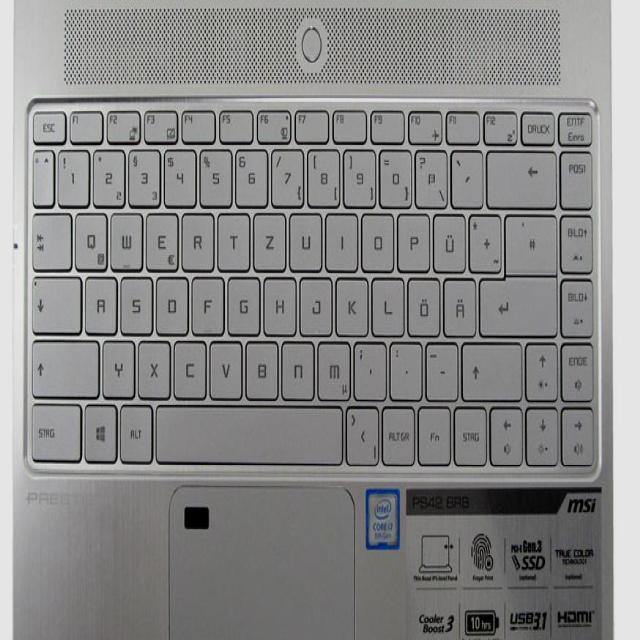0: (376, 144, 410, 205)
1: (55, 144, 89, 204)
2: (91, 145, 124, 205)
3: (125, 144, 159, 204)
4: (161, 144, 195, 204)
5: (197, 144, 231, 204)
6: (232, 144, 267, 205)
7: (268, 142, 302, 205)
8: (304, 144, 338, 205)
9: (340, 144, 375, 205)
a: (82, 269, 116, 332)
accent: (448, 144, 481, 204)
ae: (441, 272, 474, 334)
alt-left: (117, 398, 152, 461)
altgr-right: (381, 401, 415, 464)
b: (243, 334, 278, 397)
c: (171, 334, 206, 397)
caret: (31, 145, 53, 205)
comma: (351, 336, 385, 397)
d: (153, 270, 188, 333)
del: (485, 144, 556, 205)
e: (144, 206, 177, 269)
enter: (476, 270, 556, 333)
f: (189, 270, 223, 333)
g: (224, 270, 259, 333)
h: (262, 270, 295, 333)
hash: (503, 209, 557, 272)
i: (323, 206, 357, 268)
j: (297, 270, 331, 333)
k: (333, 270, 367, 333)
keyboard: (18, 84, 604, 481)
l: (369, 272, 403, 333)
less: (343, 401, 378, 464)
m: (314, 336, 349, 397)
minus: (422, 336, 457, 397)
n: (279, 336, 314, 397)
o: (359, 206, 393, 269)
oe: (405, 272, 439, 333)
p: (395, 208, 429, 268)
plus: (467, 208, 500, 269)
point: (387, 336, 421, 397)
q: (72, 206, 107, 268)
r: (179, 206, 213, 269)
s: (118, 270, 151, 333)
shift-left: (30, 332, 98, 394)
shift-lock: (29, 269, 80, 331)
shift-right: (460, 336, 522, 397)
space: (153, 399, 342, 463)
ss: (411, 144, 446, 205)
strg-left: (27, 397, 81, 460)
strg-right: (451, 401, 487, 464)
t: (215, 206, 249, 269)
tab: (30, 207, 71, 267)
u: (287, 206, 321, 269)
ue: (431, 208, 464, 269)
v: (207, 334, 242, 397)
w: (108, 206, 142, 268)
x: (135, 334, 170, 396)
y: (100, 334, 134, 396)
z: (250, 206, 285, 269)
